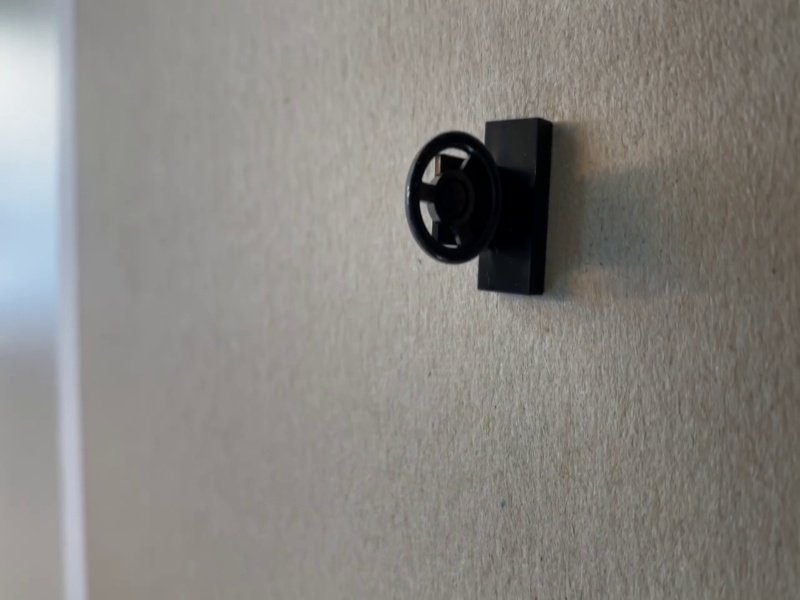steering wheel: (404, 114, 555, 298)
